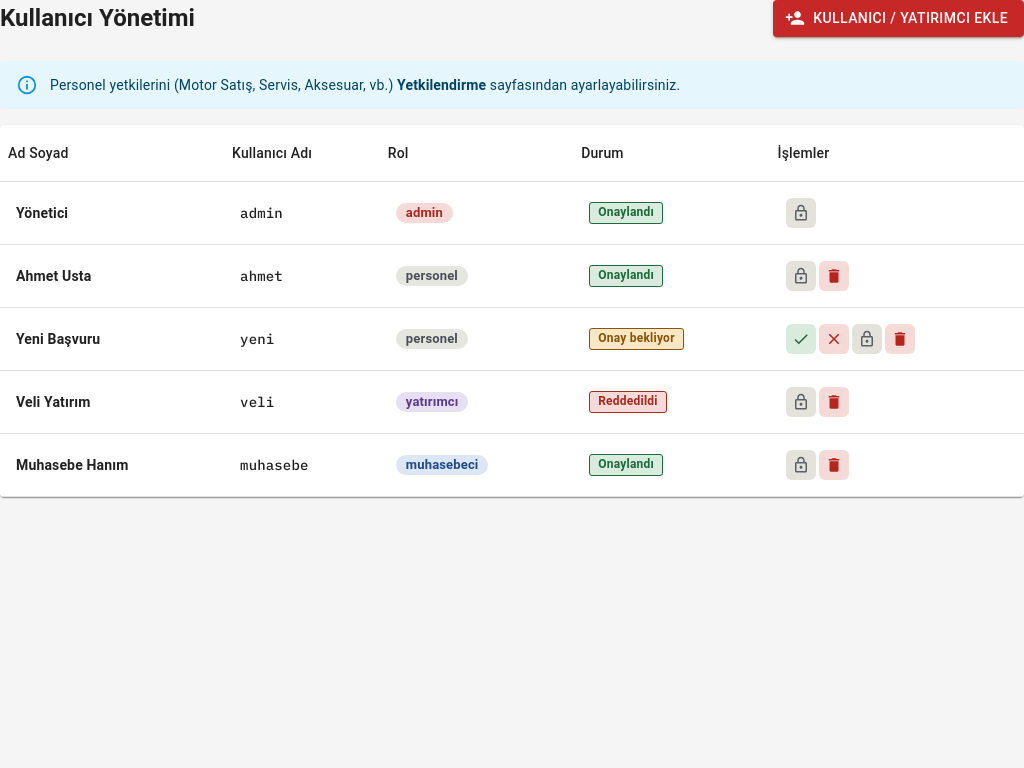
Test: Kullanıcılar: yeni kullanıcı / yatırımcı › varsayılan rol yatırımcı; seçenekler yatırımcı, personel, muhasebeci (admin oluşturulamaz)
The image size is (1024, 768).
Check: the text "Ahmet Usta" is shown, box [0,244,224,307]
Click the button "Kullanıcı / Yatırımcı Ekle": (899, 18) [773,0,1023,36]
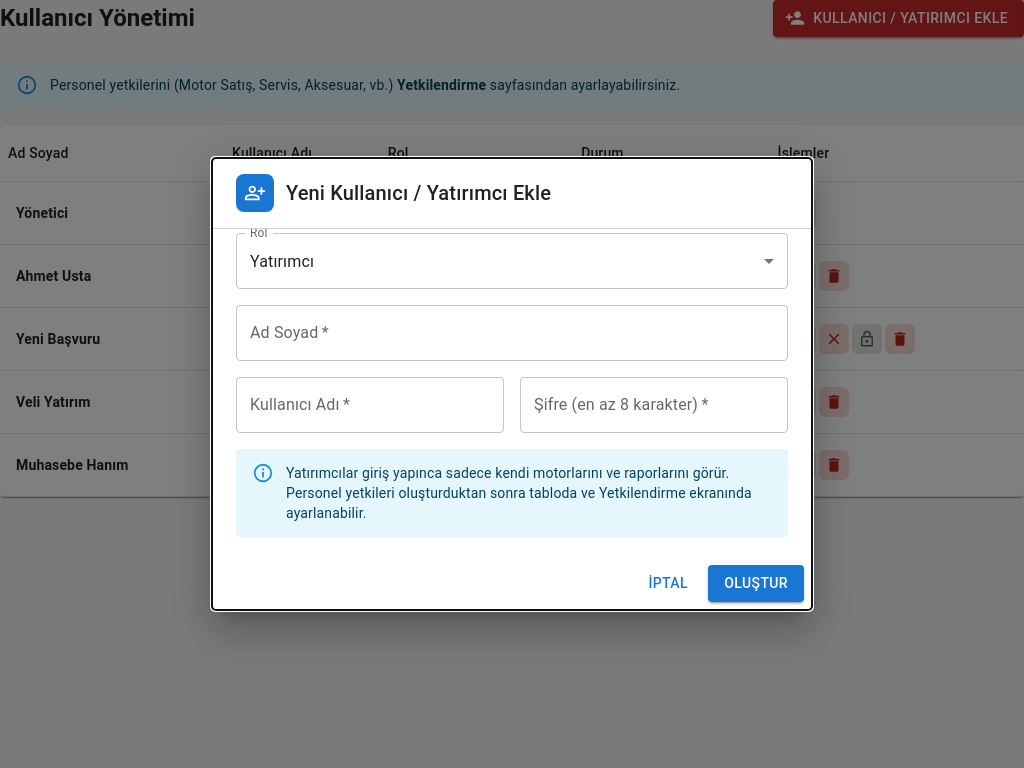
Check: the dropdown named "Rol" reads "Yatırımcı"
Click the dropdown named "Rol": (282, 261) [250,252,314,271]
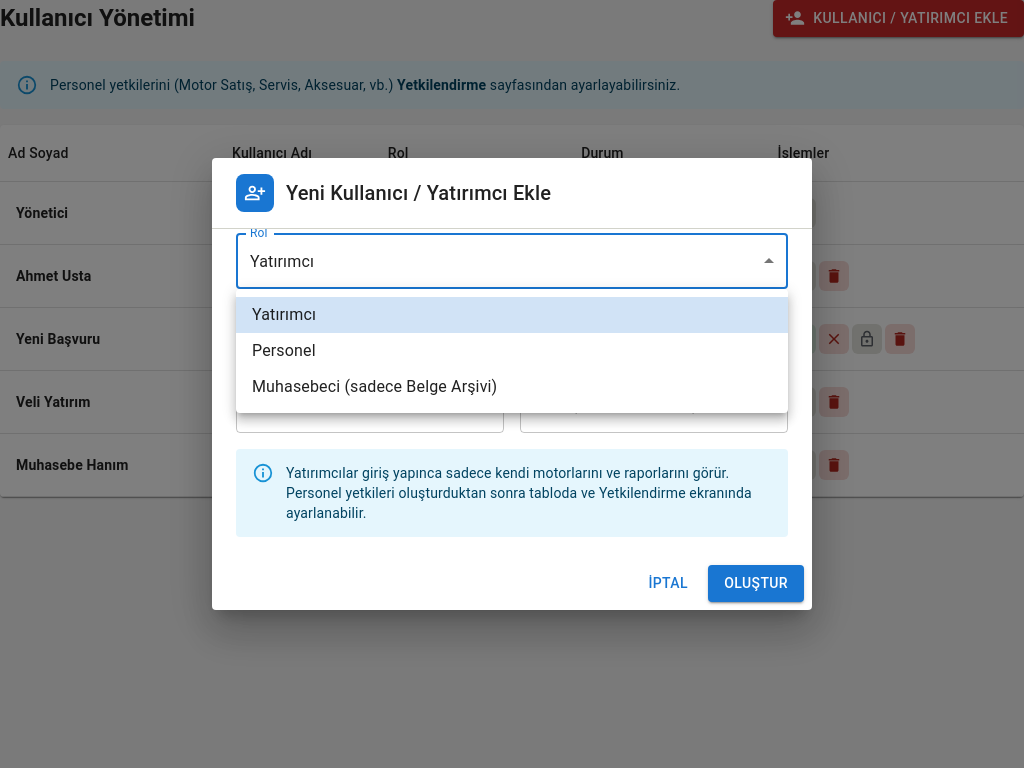
Check: the options read "Yatırımcı", "Personel", "Muhasebeci (sadece Belge Arşivi)", in this order, box [236,297,788,333]; [252,341,316,360]; [252,377,497,396]
